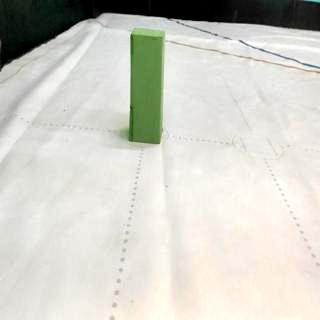greenbox: (130, 26, 167, 146)
